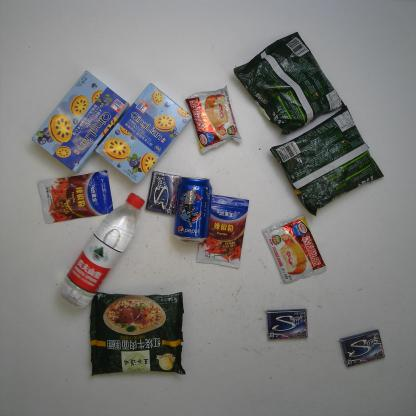Dessert: (30, 66, 126, 170), (96, 77, 190, 183), (265, 217, 326, 289), (190, 86, 241, 154)
Drink: (56, 193, 148, 318), (170, 167, 210, 243)
Gum: (145, 166, 181, 218), (342, 331, 387, 366), (266, 308, 308, 340)
Instant Noodles: (233, 27, 348, 130), (274, 109, 382, 210), (89, 292, 186, 376)
Seasoner: (34, 174, 120, 226), (196, 189, 247, 270)
